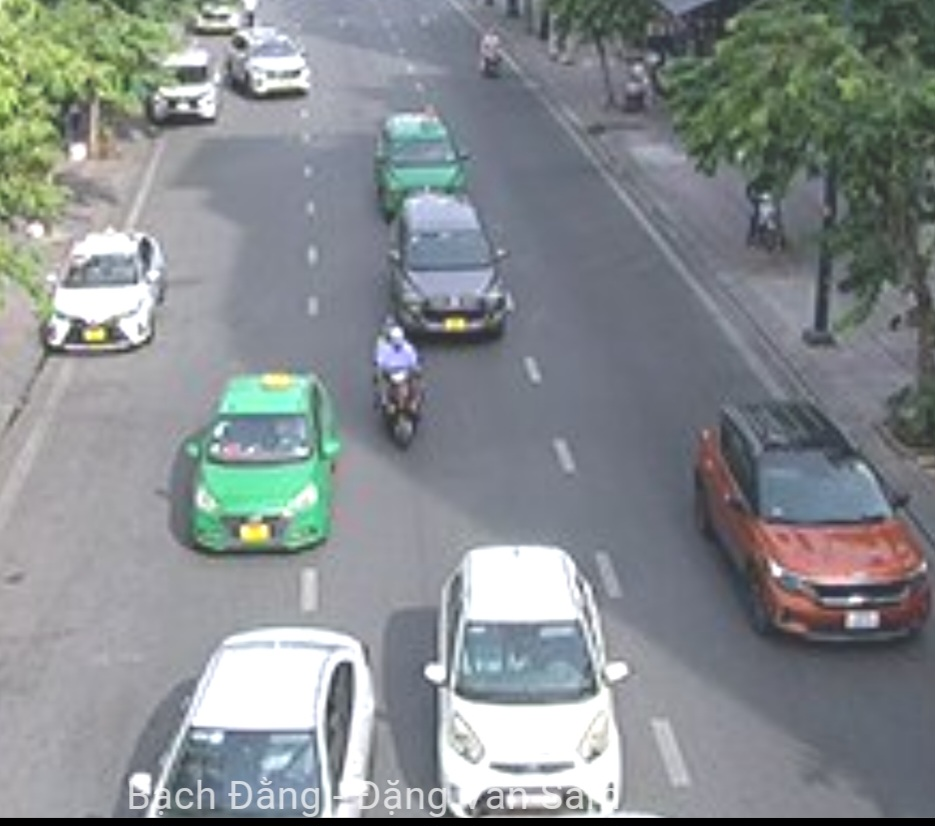car: (688, 404, 933, 645), (430, 544, 630, 812), (139, 619, 374, 826), (185, 368, 340, 547), (387, 198, 512, 344), (43, 228, 169, 356), (375, 113, 467, 197), (227, 29, 314, 100), (149, 47, 221, 124)
